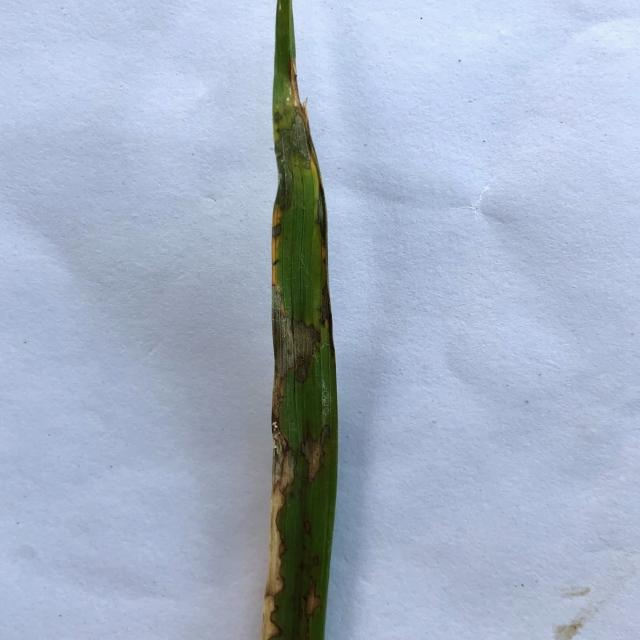leaf blight: (262, 421, 300, 640), (272, 308, 326, 422), (276, 60, 312, 163), (312, 168, 330, 306), (272, 198, 289, 306), (304, 427, 331, 481), (302, 586, 325, 626)
